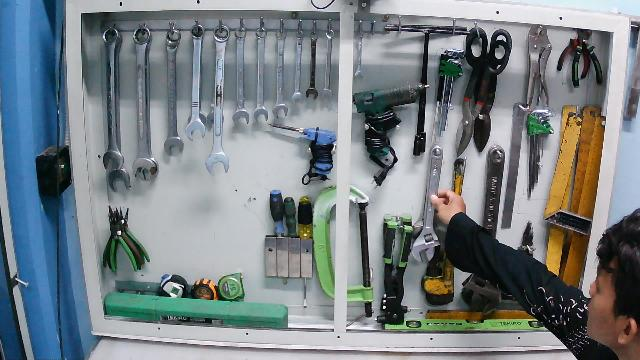kunci_inggris: (410, 145, 443, 265)
